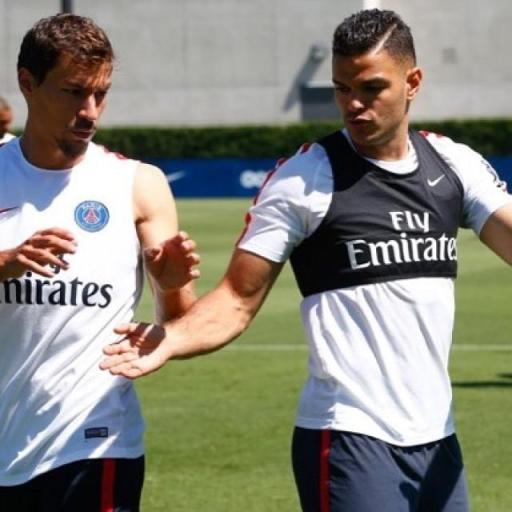Emirates: (344, 206, 461, 268), (0, 270, 114, 310)
